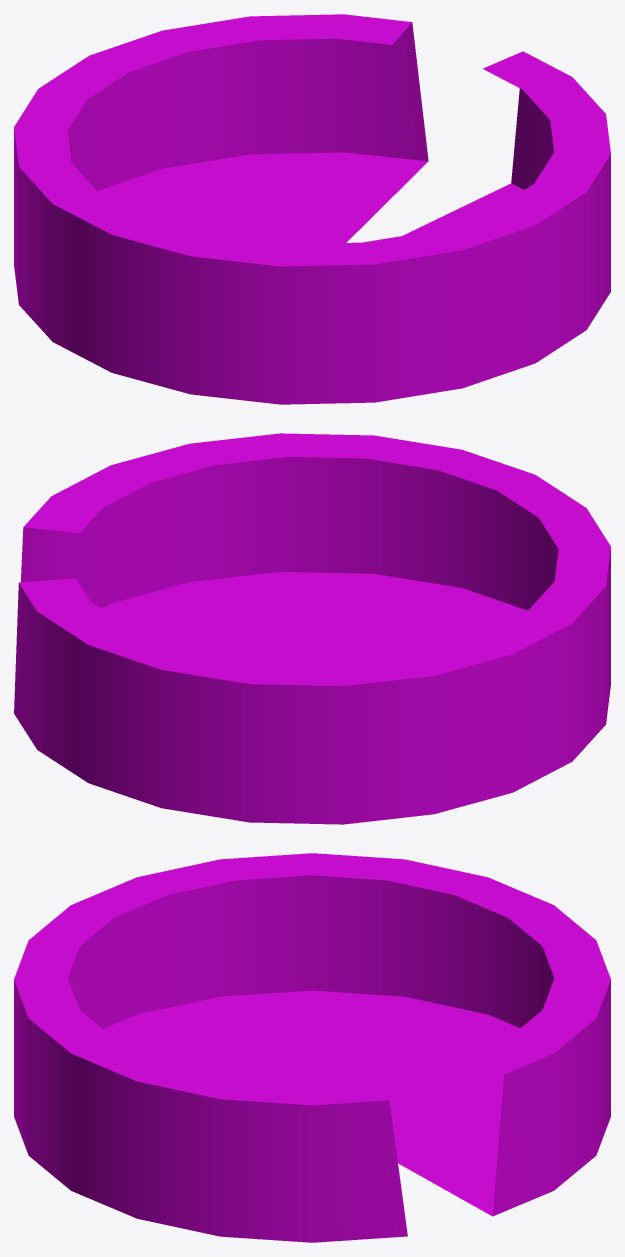
Rendered from Space_Background.fbx.
3 views of the same model, one above another, from view 1: azimuth 30°, elevation 25°; view 2: azimuth 150°, elevation 25°; view 3: azimuth 270°, elevation 25° (orthographic).
Parts seen in each view (by area): view 1: Space_Background; view 2: Space_Background; view 3: Space_Background.
Part boxes in pixels (<box>): Space_Background: <box>14,14,610,404</box>; Space_Background: <box>14,433,610,824</box>; Space_Background: <box>14,853,610,1242</box>.
Bounding box in the file's own units: 306 × 77.67 × 306.
